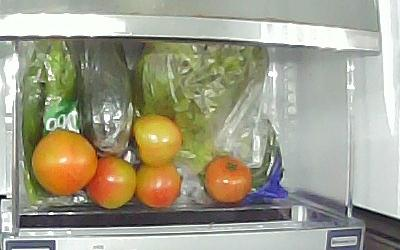tomato: (30, 126, 98, 195), (130, 112, 183, 165), (86, 154, 137, 209), (202, 154, 252, 203), (134, 159, 181, 207)
